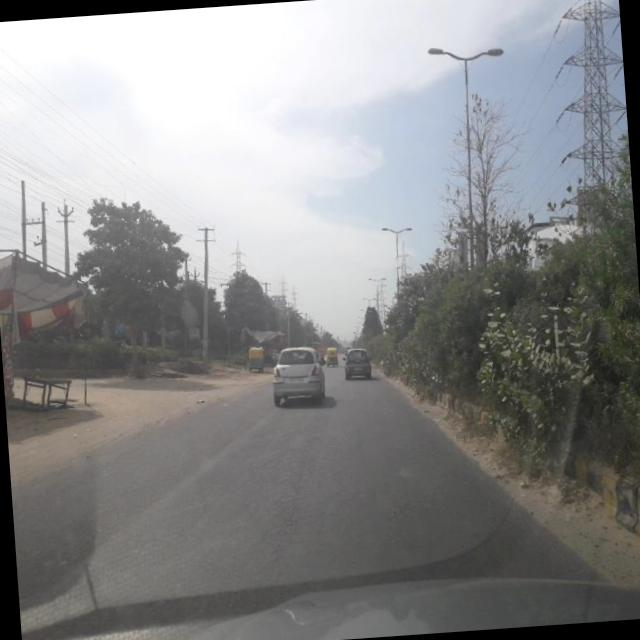crack: (7, 387, 558, 609)
